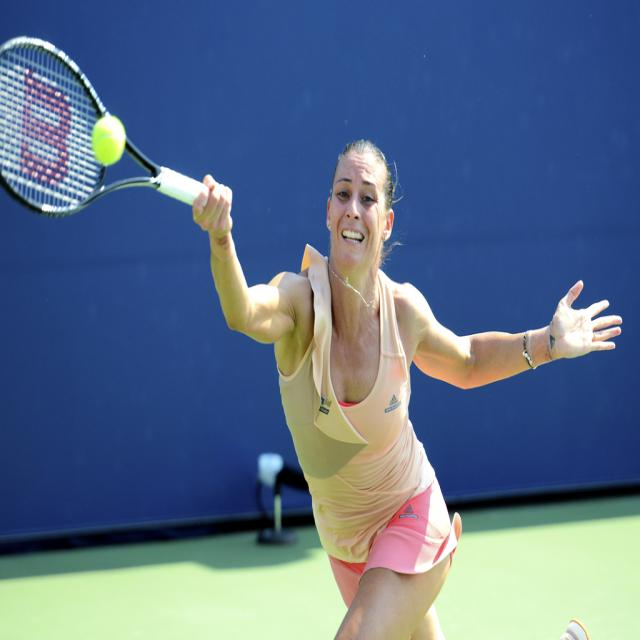Tennis ball: (91, 115, 124, 166)
